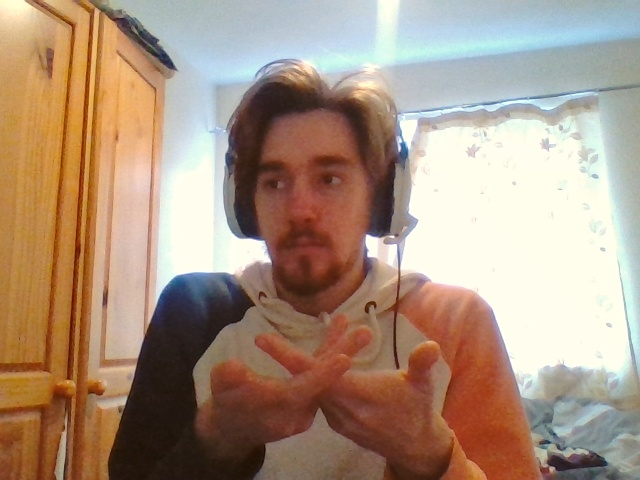how: (205, 314, 439, 449)
